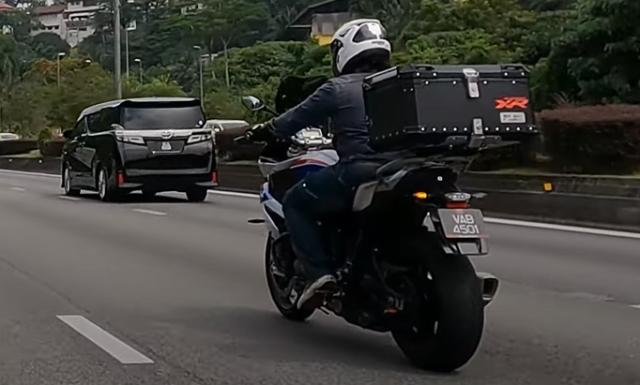License_Plate: (439, 208, 488, 241)
motorcycle: (232, 86, 518, 374)
